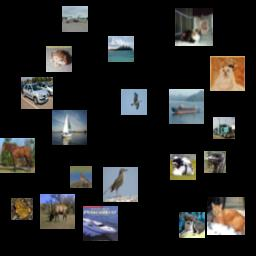airplane: (62, 6, 88, 32)
automobile: (21, 77, 53, 109)
bird: (103, 167, 138, 202), (121, 89, 147, 115), (204, 151, 226, 173), (70, 166, 92, 188)
cat: (175, 8, 213, 46), (207, 197, 245, 235)
deer: (40, 194, 75, 229)
dog: (210, 56, 245, 91), (170, 154, 196, 180), (179, 212, 205, 238)
frog: (46, 46, 72, 72), (11, 198, 33, 220)
ship: (52, 110, 87, 145), (169, 89, 204, 124), (83, 206, 118, 241), (108, 36, 134, 62)
truck: (213, 117, 235, 139)
